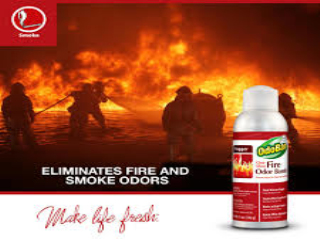fire: (9, 14, 253, 117)
